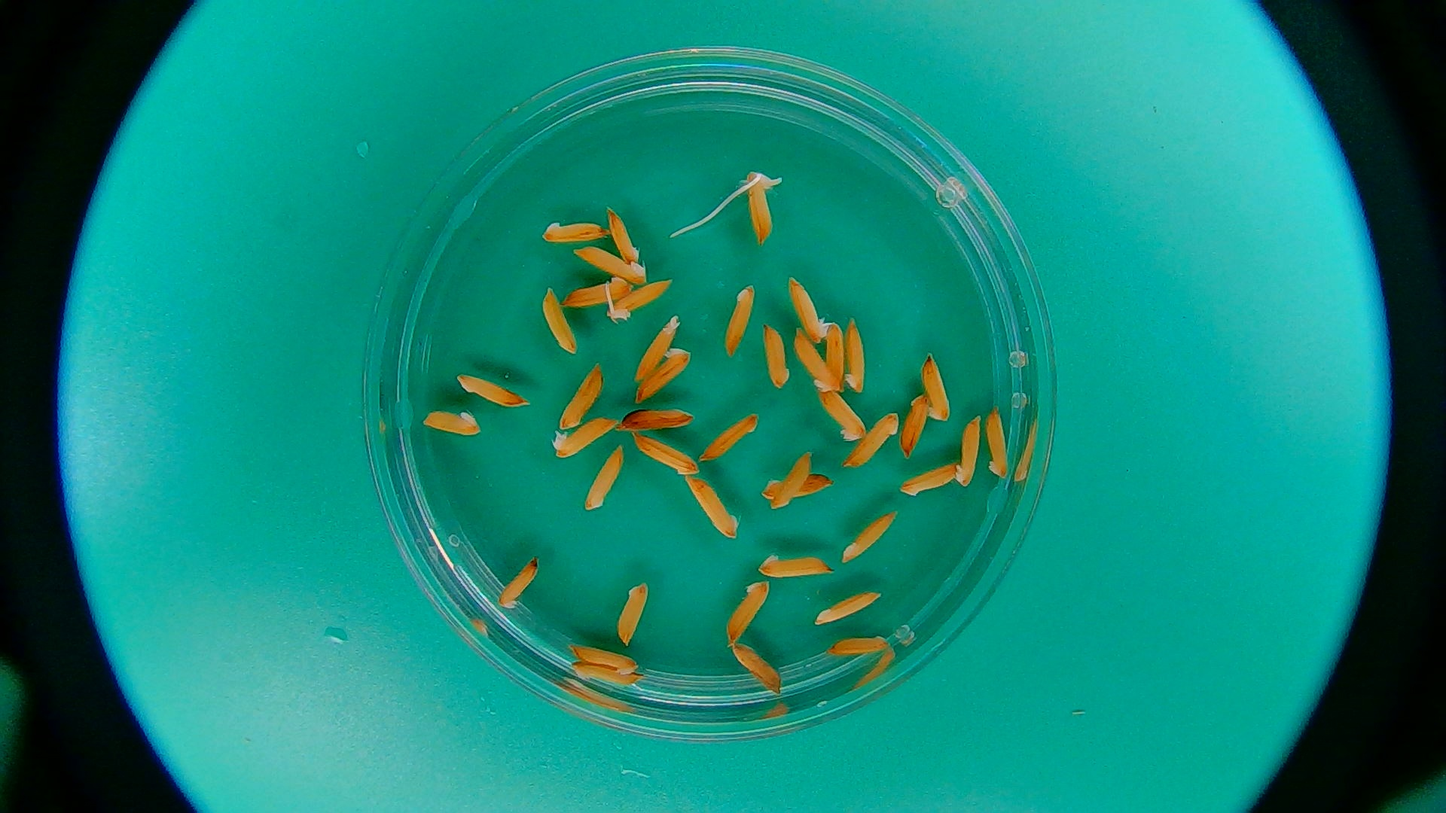no: (631, 341, 697, 410), (551, 406, 625, 461), (792, 326, 843, 402), (697, 410, 765, 466), (684, 470, 740, 537), (625, 428, 701, 475), (554, 362, 604, 431), (571, 242, 650, 285), (632, 312, 681, 380), (581, 442, 627, 513), (537, 281, 578, 360), (841, 313, 877, 399), (731, 641, 786, 696), (755, 320, 795, 395), (718, 280, 758, 355), (812, 394, 869, 446), (813, 317, 850, 392), (840, 512, 894, 563), (771, 449, 814, 513), (496, 551, 541, 611), (815, 586, 880, 626), (725, 578, 767, 639), (898, 457, 956, 501), (981, 410, 1015, 483), (920, 349, 954, 422), (602, 204, 642, 266), (537, 212, 611, 245), (557, 275, 638, 305), (758, 550, 829, 583), (458, 372, 526, 406), (953, 413, 983, 489), (614, 580, 647, 644), (568, 664, 645, 690), (576, 644, 645, 673), (417, 408, 480, 437), (825, 634, 897, 657)
yes: (609, 277, 674, 320), (742, 169, 776, 242), (789, 278, 826, 341)
